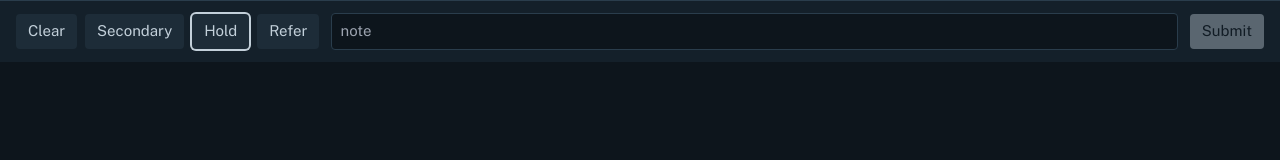
Test: DecisionBar › requires a note when overriding even without HOLD/REFER
Click the button "Clear" at (47, 31), box [16,14,77,48]
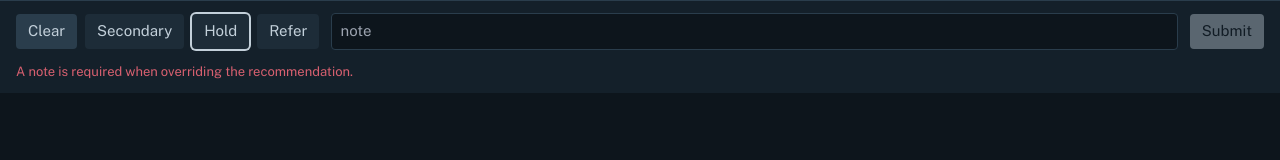
Expected: the button "Submit" is disabled, [1190,14,1264,48]
Now the text "A note is required when overriding the recommendation." is shown, box [16,64,353,78]
